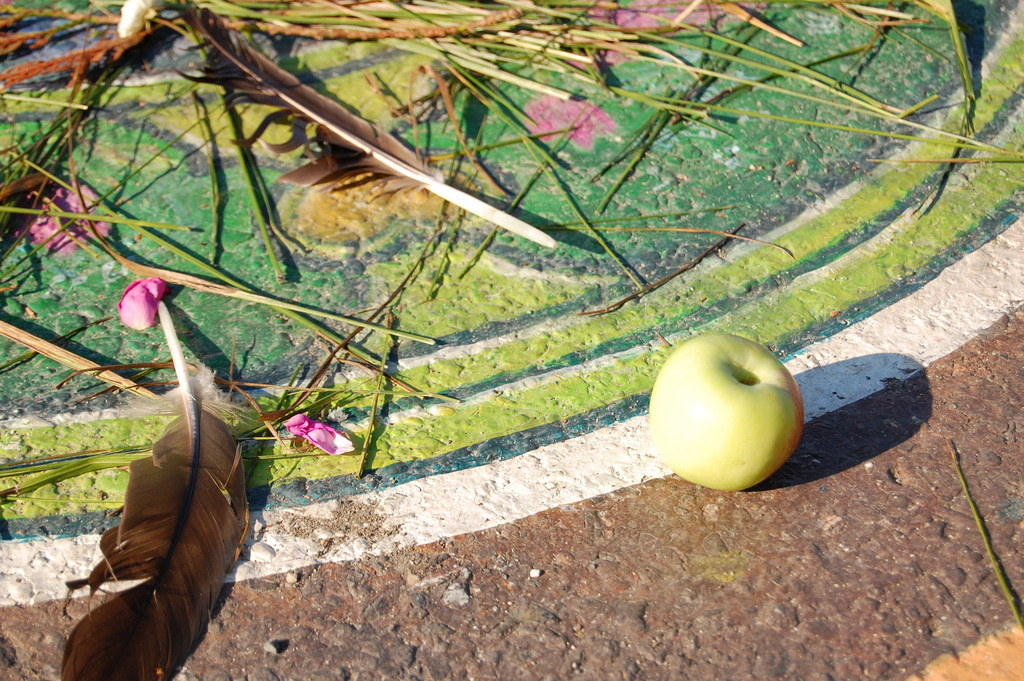Apple: (656, 328, 816, 487)
